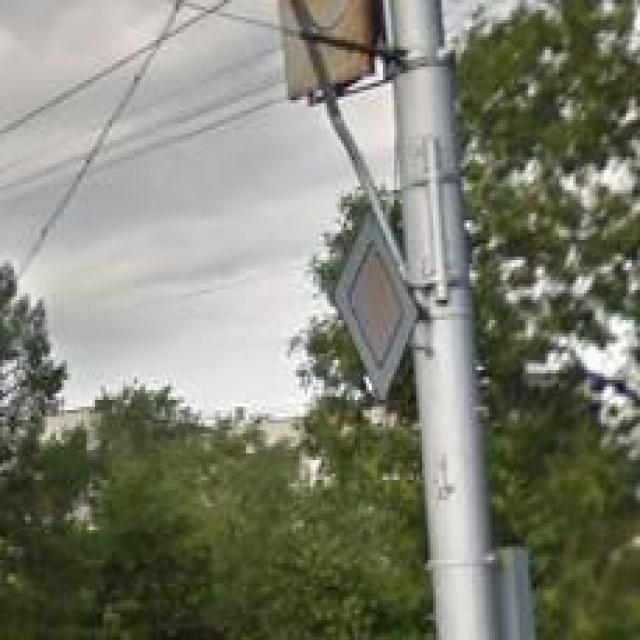Droga z pierwszenstwem: (330, 207, 419, 403)
